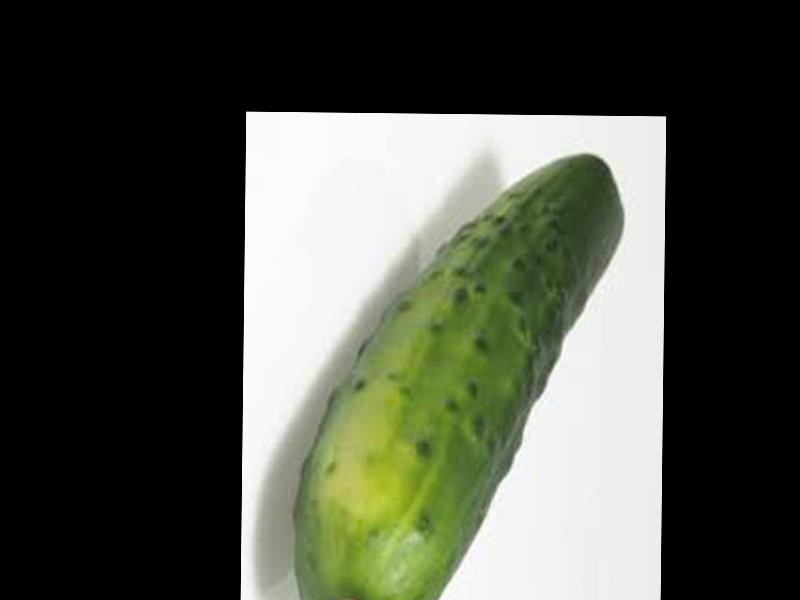Cucumber: (296, 150, 624, 600)
